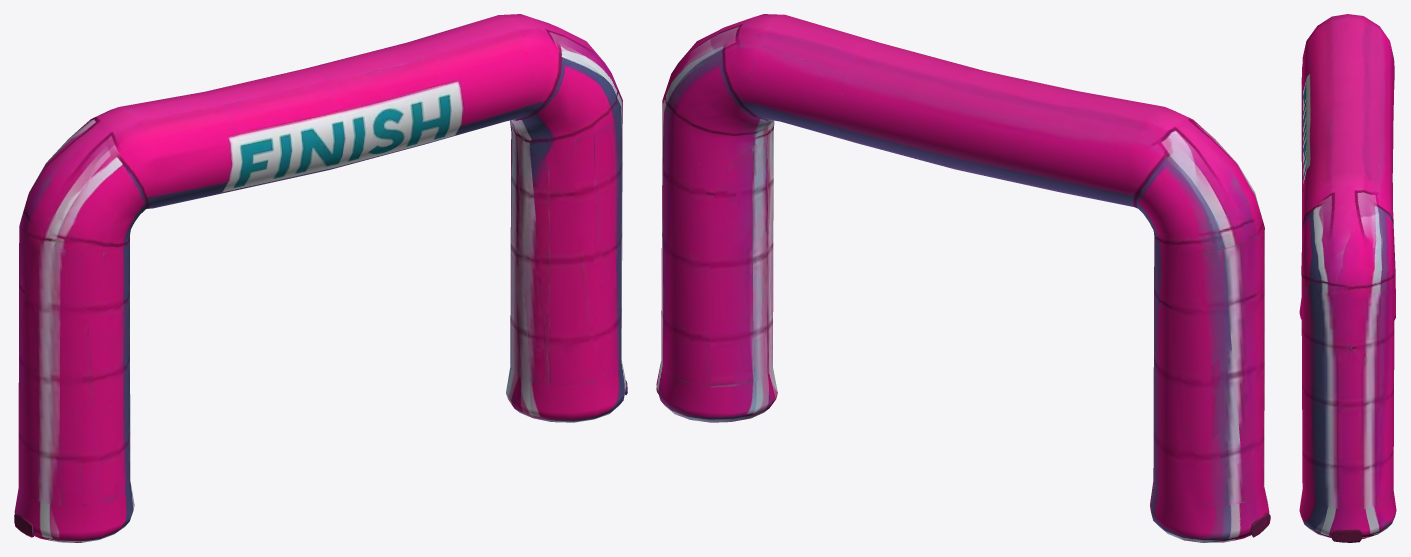
Rendered from finish_arch.glb.
The picture shows the model from 3 angles, left to right: view 1: azimuth 30°, elevation 25°; view 2: azimuth 150°, elevation 25°; view 3: azimuth 270°, elevation 25°; orthographic projection. The views are drawn at different scales.
Size of the model in its own units: 1 by 0.6467 by 0.1718.
Materials: 1 (1 with a texture image).
